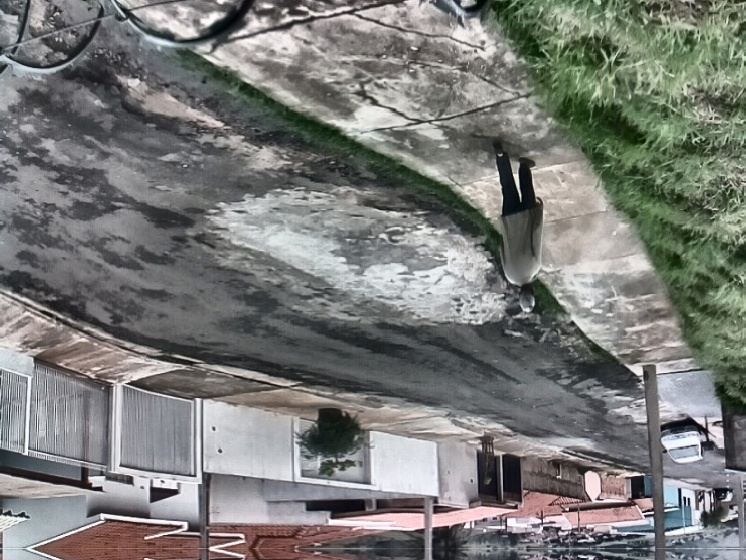person: (491, 140, 546, 318)
